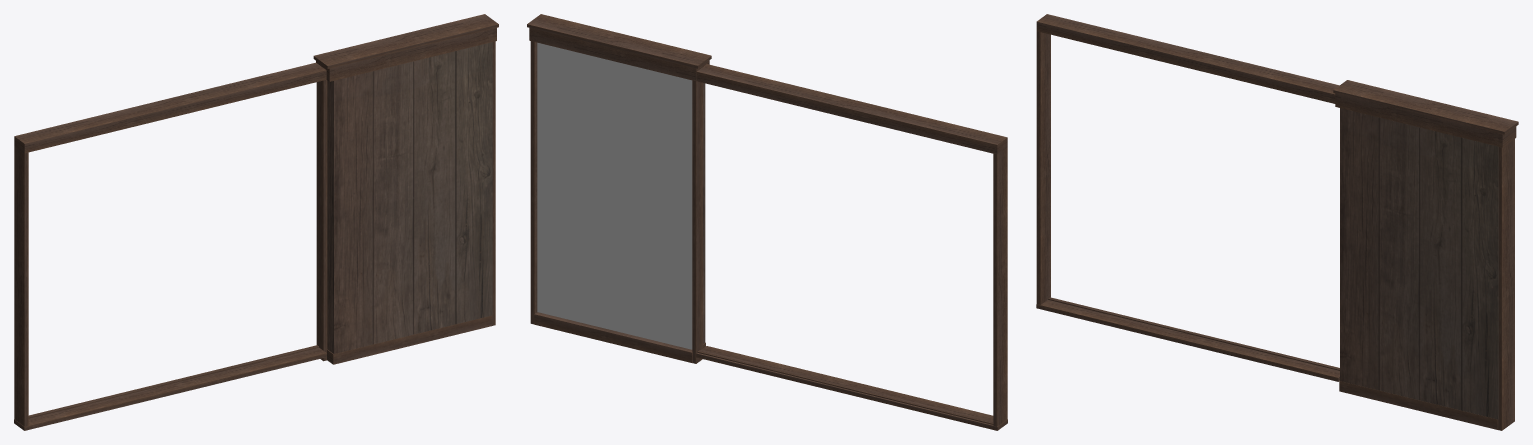
The model's file is windowflameout01l.fbx.
3 renders of one model, left to right at view 1: azimuth 30°, elevation 25°; view 2: azimuth 150°, elevation 25°; view 3: azimuth 330°, elevation 25°, orthographic.
Parts seen in each view (by area): view 1: windowflameout01l; view 2: windowflameout01l; view 3: windowflameout01l.
Boxes of the visible parts, x1=… form: windowflameout01l: x1=14, y1=14, x2=498, y2=430; windowflameout01l: x1=527, y1=14, x2=1007, y2=430; windowflameout01l: x1=1036, y1=14, x2=1518, y2=430.
Bounding box in the file's own units: 256 × 156 × 13.15.
